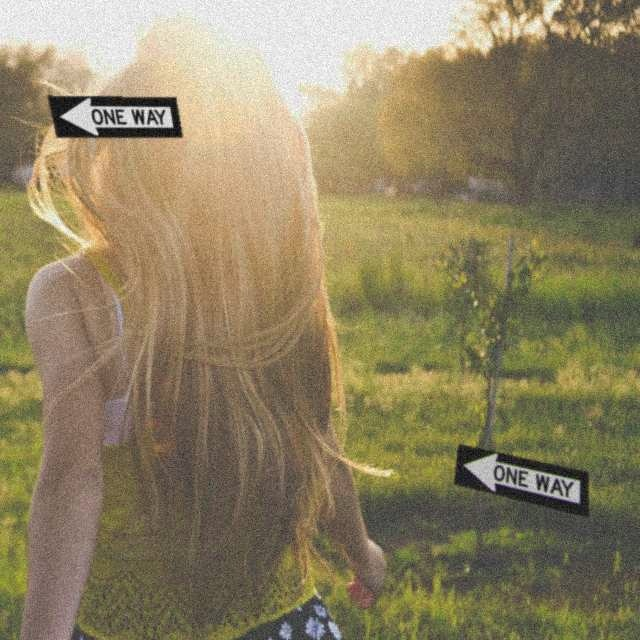ONE_WAY_ left: (453, 443, 589, 518), (47, 95, 183, 138)
